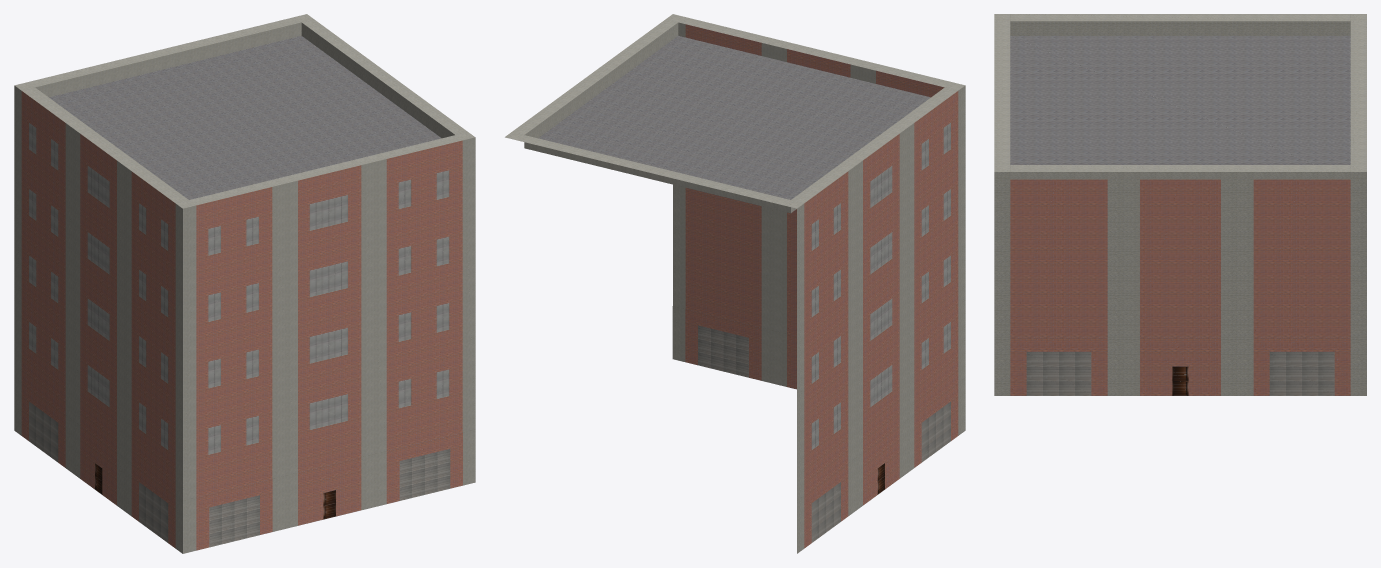
Rendered from ShortBuilding1.obj.
3 renders of one model, left to right at view 1: azimuth 30°, elevation 25°; view 2: azimuth 150°, elevation 25°; view 3: azimuth 270°, elevation 25°, orthographic. The views are drawn at different scales.
Parts seen in each view (by area): view 1: Structure_1, Structure_0, Structure_4, Windows, Structure_5, Structure_2, Structure_3; view 2: Structure_1, Structure_0, Structure_4, Windows, Structure_5, Structure_2; view 3: Structure_1, Structure_4, Structure_0, Structure_5, Structure_2, Structure_3.
Boxes of the visible parts, left/top/right/bottom form: Structure_1: left=21, top=91, right=462, bottom=507; Structure_0: left=14, top=14, right=475, bottom=553; Structure_4: left=49, top=36, right=441, bottom=199; Windows: left=29, top=123, right=449, bottom=454; Structure_5: left=21, top=383, right=462, bottom=550; Structure_2: left=29, top=402, right=450, bottom=547; Structure_3: left=95, top=463, right=335, bottom=519; Structure_1: left=685, top=24, right=958, bottom=502; Structure_0: left=505, top=14, right=965, bottom=553; Structure_4: left=538, top=35, right=930, bottom=199; Windows: left=811, top=123, right=950, bottom=449; Structure_5: left=685, top=309, right=958, bottom=548; Structure_2: left=698, top=325, right=950, bottom=542; Structure_1: left=1010, top=179, right=1350, bottom=366; Structure_4: left=1010, top=36, right=1350, bottom=164; Structure_0: left=994, top=14, right=1366, bottom=395; Structure_5: left=1010, top=337, right=1350, bottom=395; Structure_2: left=1026, top=352, right=1334, bottom=395; Structure_3: left=1172, top=366, right=1188, bottom=395.
Bounding box in the file's own units: 23.08 × 26 × 23.01.
Materials: 6 (6 with a texture image).
